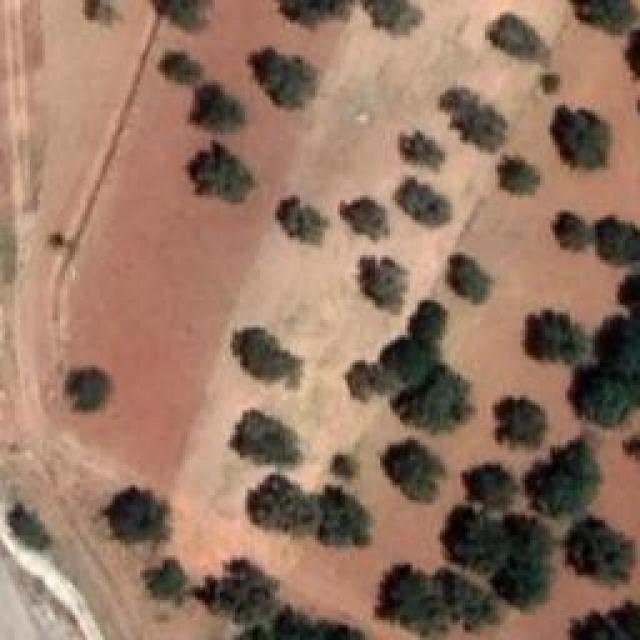Tree: (557, 355, 640, 430), (375, 433, 452, 510), (500, 507, 560, 603), (398, 368, 478, 433), (200, 553, 272, 625), (533, 433, 601, 509), (565, 508, 631, 586), (375, 572, 450, 640), (93, 480, 174, 542), (228, 408, 305, 471), (432, 503, 503, 571), (555, 105, 622, 175), (248, 38, 318, 103), (520, 305, 590, 366), (188, 150, 256, 211), (0, 498, 59, 563), (193, 83, 253, 145), (53, 357, 118, 414), (585, 310, 640, 377), (253, 603, 352, 640), (232, 320, 290, 381), (443, 255, 505, 311), (448, 88, 507, 146), (488, 13, 548, 69), (567, 595, 639, 640), (272, 193, 331, 247), (253, 475, 309, 530), (395, 175, 448, 233), (490, 400, 551, 450), (460, 460, 521, 510), (150, 0, 224, 41), (155, 43, 214, 90), (364, 250, 418, 301), (495, 148, 546, 201), (595, 210, 640, 268), (322, 490, 369, 545), (575, 0, 640, 38), (147, 553, 192, 606), (366, 0, 424, 40), (280, 0, 354, 31), (380, 340, 426, 386), (545, 205, 591, 250), (348, 198, 391, 239), (610, 260, 639, 316), (400, 130, 441, 168), (415, 303, 451, 342), (530, 67, 568, 100), (78, 0, 126, 26), (328, 448, 362, 483), (625, 25, 640, 85)
